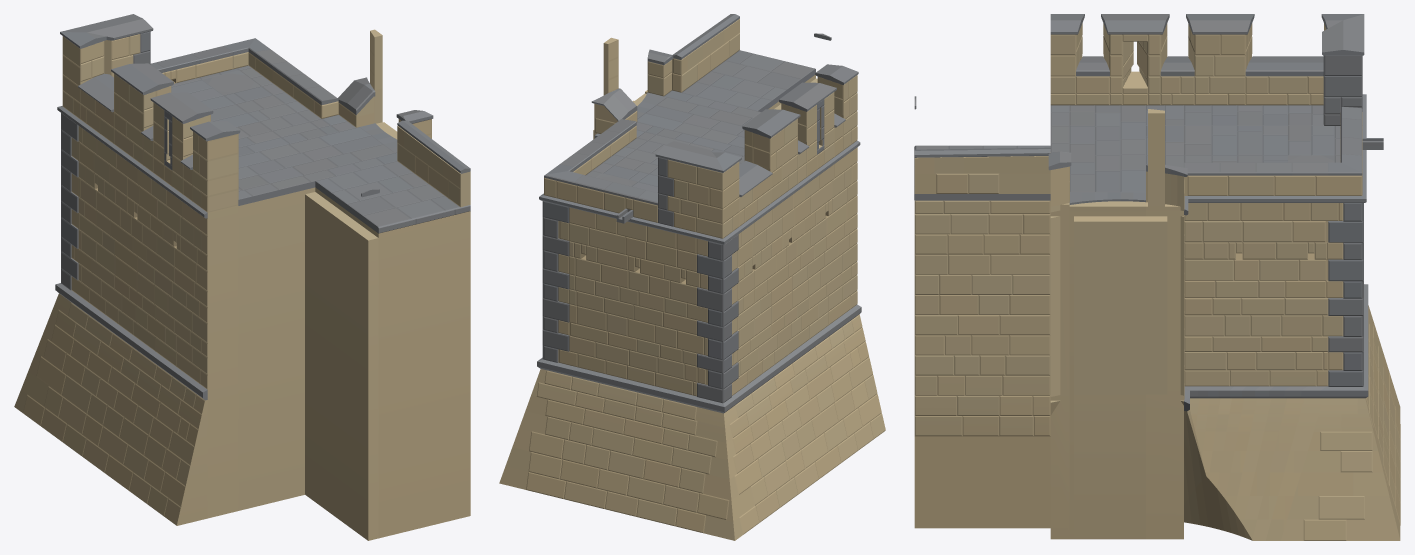
3 views of the same model, side by side, from view 1: azimuth 30°, elevation 25°; view 2: azimuth 150°, elevation 25°; view 3: azimuth 270°, elevation 25° (orthographic). The views are drawn at different scales.
Parts seen in each view (by area): view 1: Mesh_Limestone, Mesh_Granite; view 2: Mesh_Limestone, Mesh_Granite; view 3: Mesh_Limestone, Mesh_Granite.
Part boxes in pixels (x1,y1,x2,y2): Mesh_Limestone: (14,29,470,540); Mesh_Granite: (55,14,470,400); Mesh_Limestone: (499,19,885,540); Mesh_Granite: (537,14,861,413); Mesh_Limestone: (914,23,1400,540); Mesh_Granite: (914,14,1383,411).
Bounding box in the file's own units: 7.65 × 11.08 × 11.46.
